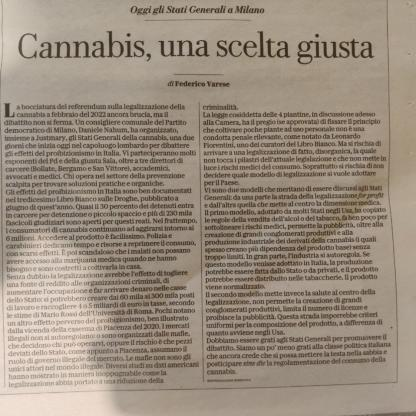testo_col: (2, 96, 201, 394), (200, 96, 398, 376)
titolo: (8, 22, 385, 72)
